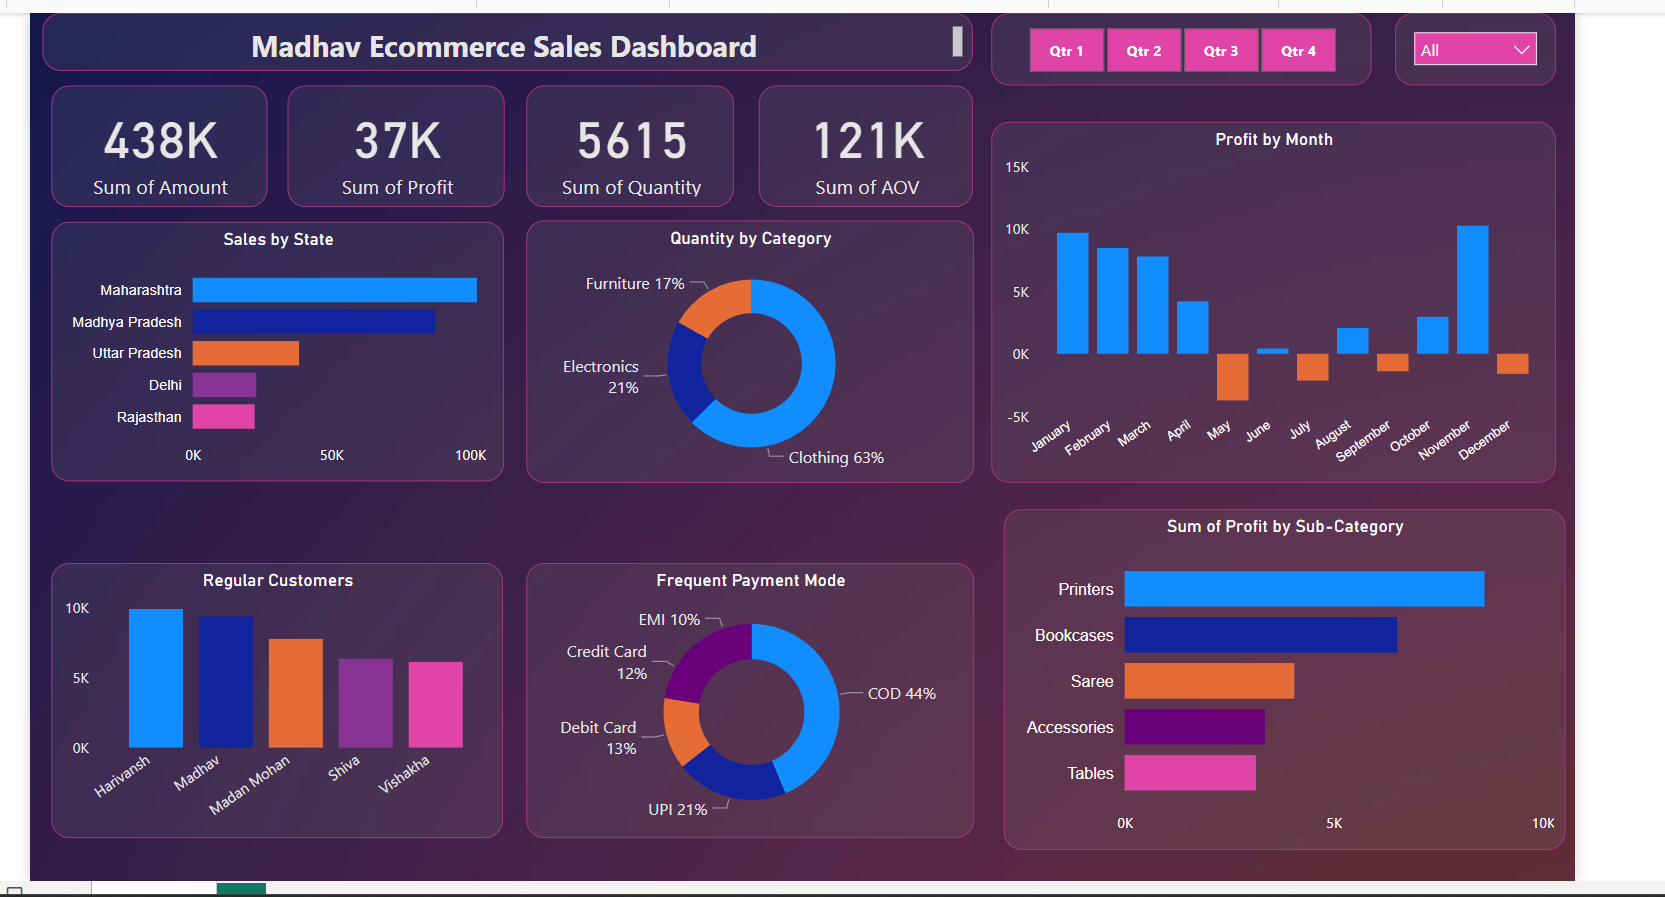

The page's visual inventory and layout, read from the dashboard file:
{"tool":"powerbi","page":{"name":"DashBoard","canvas":[1280,720],"ordinal":0},"visuals":[{"type":"textbox","box":[10,0,771.3,48],"z":0},{"type":"columnChart","title":"Profit by Month","fields":{"Category":["Orders.Order Date.Variation.Date Hierarchy.Month"],"Y":["Details.Profit"]},"box":[796.7,90,467.8,298.9],"z":1000},{"type":"barChart","title":"Sales by State","fields":{"Category":["Orders.State"],"Y":["Details.Amount"]},"box":[17.8,173.3,375.6,215.6],"z":2000},{"type":"donutChart","title":"Quantity by Category","fields":{"Category":["Details.Category"],"Y":["Details.Quantity"]},"box":[411.1,172.2,371.1,217.8],"z":3000},{"type":"donutChart","title":"Frequent Payment Mode","fields":{"Y":["Details.Quantity"],"Category":["Details.PaymentMode"]},"box":[411.1,455.6,371.1,227.8],"z":4000},{"type":"card","fields":{"Values":["Details.Quantity"]},"box":[411.1,60,172.2,101.1],"z":5000},{"type":"card","fields":{"Values":["Details.AOV"]},"box":[604.4,60,177.8,101.1],"z":6000},{"type":"card","fields":{"Values":["Details.Amount"]},"box":[17.8,60,178.9,101.1],"z":7000},{"type":"card","fields":{"Values":["Details.Profit"]},"box":[213.3,60,180,101.1],"z":8000},{"type":"barChart","fields":{"Category":["Details.Sub-Category"],"Y":["Details.Profit"]},"box":[806.7,411.1,465.6,282.2],"z":9000},{"type":"columnChart","title":"Regular Customers","fields":{"Category":["Orders.CustomerName"],"Y":["Details.Amount"]},"box":[17.8,455.6,374.6,227.8],"z":10000},{"type":"slicer","fields":{"Values":["Orders.Order Date.Variation.Date Hierarchy.Quarter"]},"box":[796.7,0,315.6,60],"z":11000},{"type":"slicer","fields":{"Values":["Orders.State"]},"box":[1131.1,0,133.3,60],"z":12000}]}

Visuals, with their boxes on the page's 1280x720 design canvas (x1, y1, x2, y2). These are canvas units, not pixel positions in the 1665x897 screenshot, which may show the page scaled, cropped or inside an application window:
textbox: (10, 0, 781, 48)
"Profit by Month" columnChart: (797, 90, 1264, 389)
"Sales by State" barChart: (18, 173, 393, 389)
"Quantity by Category" donutChart: (411, 172, 782, 390)
"Frequent Payment Mode" donutChart: (411, 456, 782, 683)
card - Details.Quantity: (411, 60, 583, 161)
card - Details.AOV: (604, 60, 782, 161)
card - Details.Amount: (18, 60, 197, 161)
card - Details.Profit: (213, 60, 393, 161)
barChart - Details.Sub-Category x Details.Profit: (807, 411, 1272, 693)
"Regular Customers" columnChart: (18, 456, 392, 683)
slicer - Orders.Order Date.Variation.Date Hierarchy.Quarter: (797, 0, 1112, 60)
slicer - Orders.State: (1131, 0, 1264, 60)
